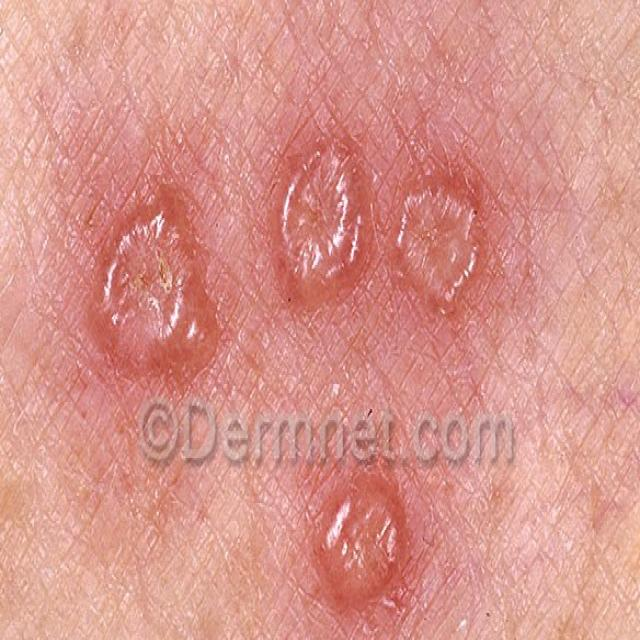Viral Infections: (41, 151, 534, 640)
